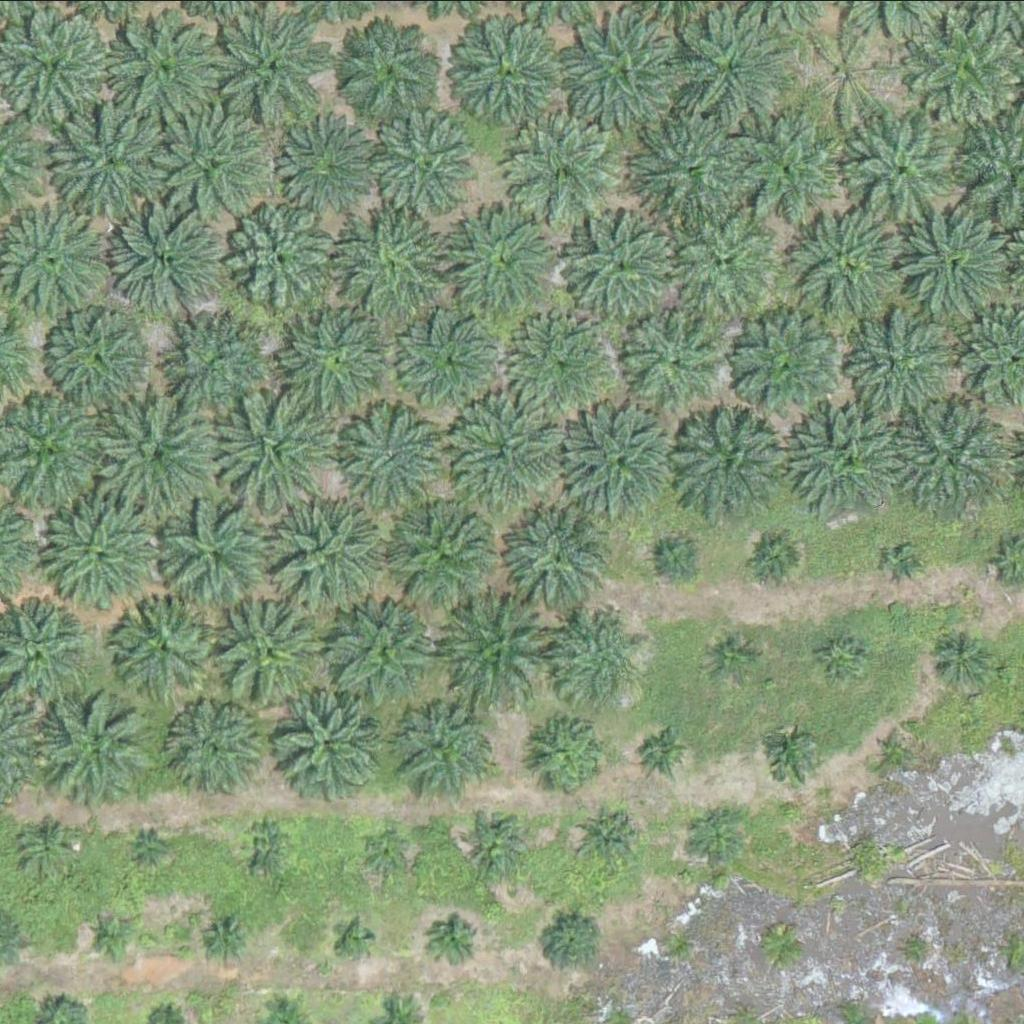Kelapa_Sawit: (94, 390, 220, 515), (335, 202, 461, 327), (445, 192, 571, 317), (262, 493, 388, 618), (210, 386, 336, 511), (553, 207, 679, 332), (447, 390, 561, 503), (57, 105, 170, 218), (165, 106, 278, 219), (108, 12, 221, 125), (42, 500, 155, 613), (159, 501, 272, 614), (448, 14, 561, 127), (223, 8, 336, 121), (268, 112, 381, 225), (503, 504, 616, 617), (792, 400, 905, 513), (894, 399, 1007, 512), (503, 312, 616, 425), (664, 203, 777, 316), (849, 108, 962, 221), (732, 112, 845, 225), (634, 118, 747, 231), (910, 12, 1023, 125), (113, 206, 227, 318), (391, 499, 505, 611), (447, 591, 561, 703), (331, 595, 445, 707), (214, 592, 328, 704), (503, 113, 617, 225), (563, 13, 677, 125), (40, 683, 153, 795), (377, 104, 490, 216), (226, 198, 339, 310), (280, 303, 393, 415), (569, 403, 682, 515), (681, 403, 794, 515), (730, 306, 843, 418), (615, 299, 728, 411), (788, 201, 901, 313), (895, 205, 1008, 317), (675, 11, 788, 123), (797, 22, 898, 122), (112, 596, 213, 696), (340, 19, 441, 119), (408, 312, 509, 412), (348, 400, 449, 500), (847, 306, 948, 406), (49, 309, 149, 409), (172, 324, 272, 424), (278, 691, 378, 791), (404, 703, 504, 803), (527, 714, 615, 801), (174, 699, 262, 786), (554, 614, 642, 701), (579, 803, 642, 866), (538, 908, 601, 971), (469, 810, 532, 872), (933, 625, 996, 687), (631, 716, 694, 778), (429, 915, 480, 965), (23, 822, 74, 872), (698, 809, 748, 859), (762, 733, 812, 783), (241, 817, 291, 867), (818, 631, 868, 681), (709, 630, 759, 680), (86, 911, 136, 961), (360, 828, 410, 878), (200, 912, 250, 962), (650, 533, 700, 583), (753, 532, 803, 582), (335, 920, 373, 958), (876, 728, 914, 766), (885, 545, 923, 583), (141, 835, 166, 860)
